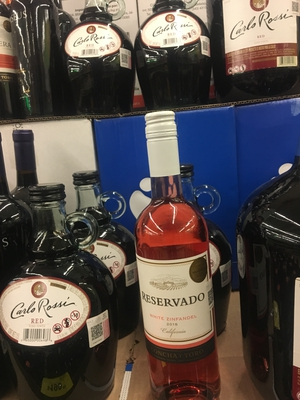reservado white zinfandel: (122, 105, 227, 393)
